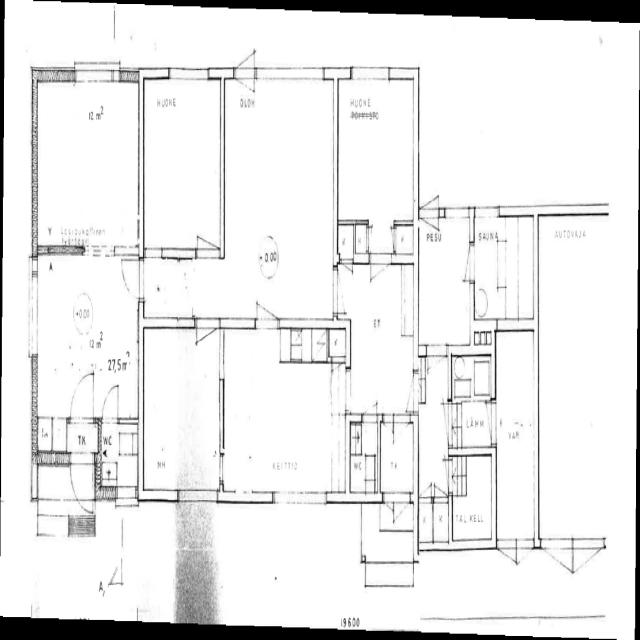door: (573, 541, 606, 620), (541, 541, 573, 620), (70, 452, 93, 514), (70, 368, 94, 424), (196, 318, 218, 375), (256, 271, 278, 328), (197, 202, 219, 257), (333, 268, 359, 314), (371, 254, 392, 308), (234, 25, 254, 80), (234, 67, 254, 122), (427, 344, 446, 398), (394, 371, 419, 412), (472, 403, 496, 445), (420, 164, 439, 214), (420, 204, 439, 254), (120, 261, 144, 299), (516, 541, 534, 589), (430, 405, 452, 444), (394, 489, 411, 538), (498, 541, 515, 589), (453, 242, 474, 280), (394, 413, 410, 456), (432, 459, 452, 493), (102, 382, 118, 424), (363, 384, 377, 422), (340, 254, 352, 292), (435, 470, 447, 503), (382, 413, 393, 445), (383, 489, 393, 524), (382, 227, 396, 252), (420, 472, 431, 503), (367, 226, 380, 252), (333, 357, 344, 387)
